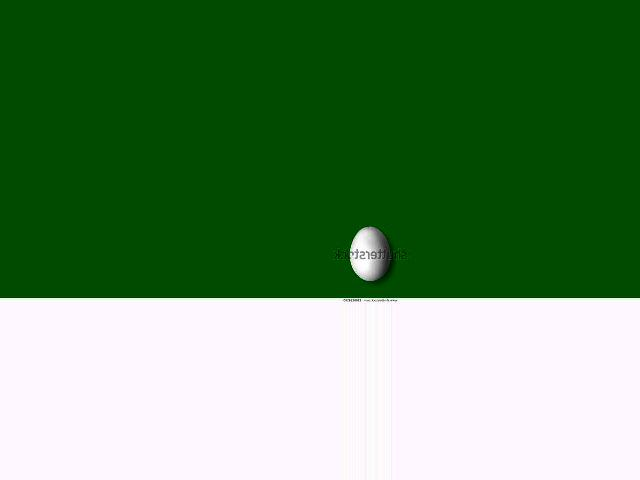egg: (349, 226, 390, 281)
